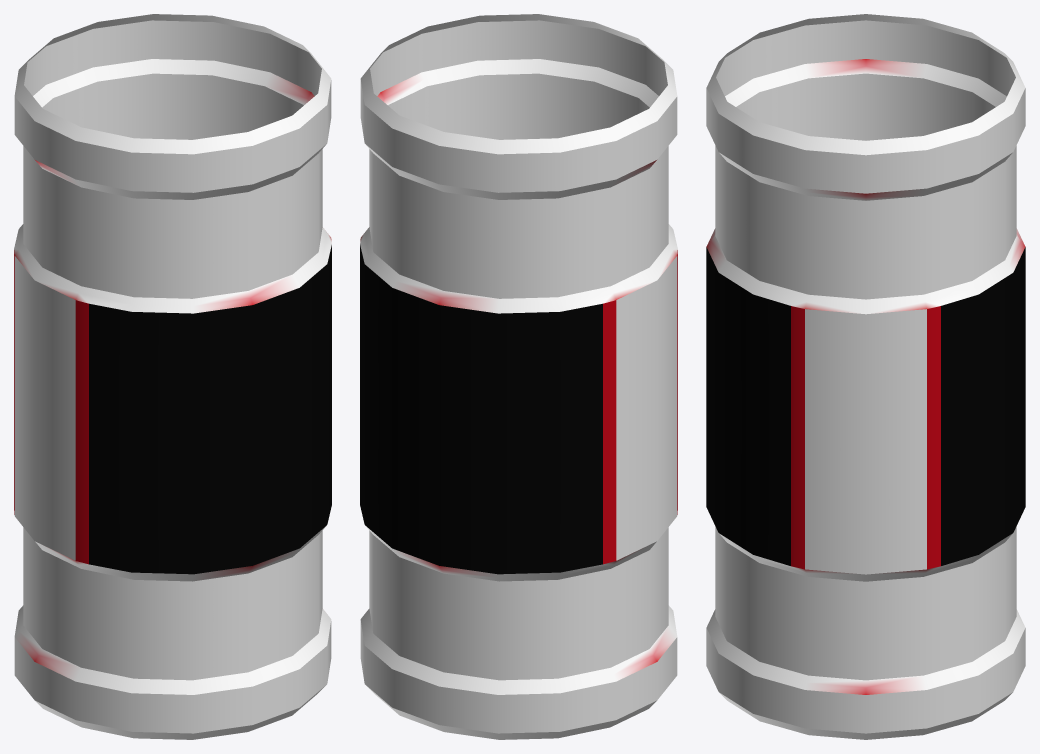
Rendered from part_main-lod0.dae.
3 views of the same model, side by side, from view 1: azimuth 30°, elevation 25°; view 2: azimuth 150°, elevation 25°; view 3: azimuth 270°, elevation 25° (orthographic).
Visible parts, largest first — view 1: part_main-lod0Xlod0Xp2genericXgen_p2_hulltexture_02, part_main-lod0Xlod0Xp2multimatXp2_multimat_01, part_main-lod0Xlod0Xp2genericXgen_p2_hulltexture_02_c; view 2: part_main-lod0Xlod0Xp2genericXgen_p2_hulltexture_02, part_main-lod0Xlod0Xp2multimatXp2_multimat_01, part_main-lod0Xlod0Xp2genericXgen_p2_hulltexture_02_c; view 3: part_main-lod0Xlod0Xp2genericXgen_p2_hulltexture_02, part_main-lod0Xlod0Xp2genericXgen_p2_hulltexture_02_c, part_main-lod0Xlod0Xp2multimatXp2_multimat_01.
Boxes of the visible parts, x1,y1,x2,y2 form: part_main-lod0Xlod0Xp2genericXgen_p2_hulltexture_02: (14, 14, 331, 739); part_main-lod0Xlod0Xp2multimatXp2_multimat_01: (89, 245, 331, 574); part_main-lod0Xlod0Xp2genericXgen_p2_hulltexture_02_c: (14, 49, 331, 704); part_main-lod0Xlod0Xp2genericXgen_p2_hulltexture_02: (360, 14, 677, 739); part_main-lod0Xlod0Xp2multimatXp2_multimat_01: (360, 245, 602, 574); part_main-lod0Xlod0Xp2genericXgen_p2_hulltexture_02_c: (360, 49, 677, 704); part_main-lod0Xlod0Xp2genericXgen_p2_hulltexture_02: (706, 14, 1025, 739); part_main-lod0Xlod0Xp2genericXgen_p2_hulltexture_02_c: (706, 49, 1025, 704); part_main-lod0Xlod0Xp2multimatXp2_multimat_01: (706, 247, 1025, 565).
Size of the model in its own units: 4 by 8.29 by 4.
